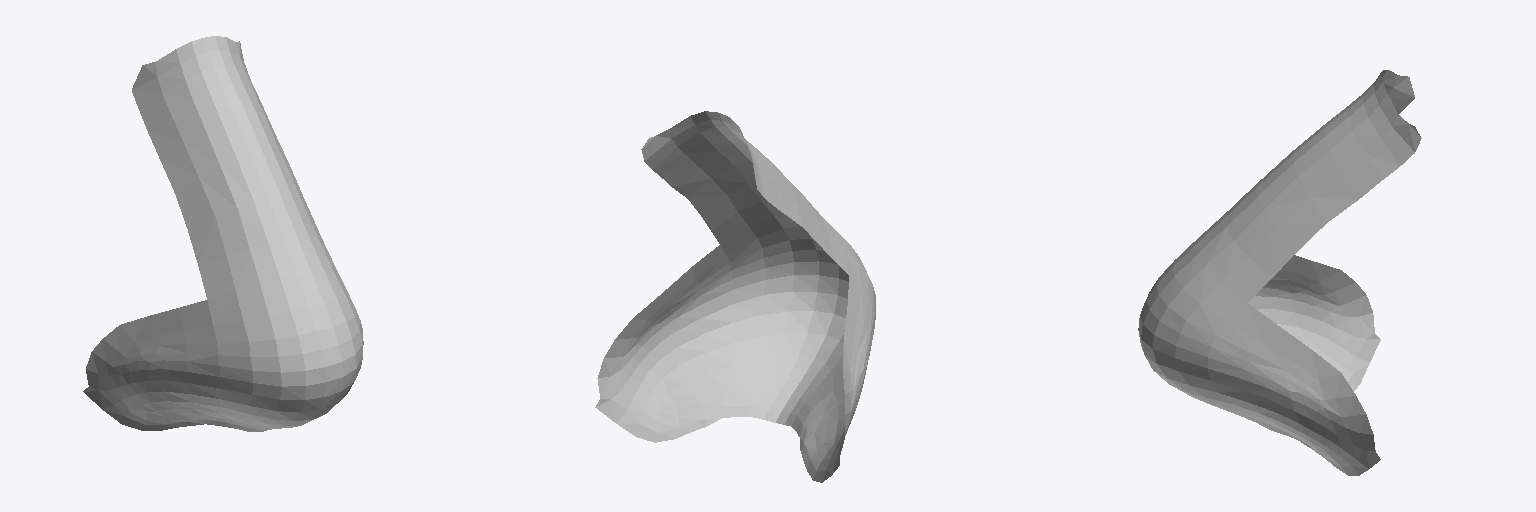
The model's file is euro-fem-nose-bridge-deep.obj.
The picture shows the model from 3 angles: view 1: azimuth 30°, elevation 25°; view 2: azimuth 150°, elevation 25°; view 3: azimuth 270°, elevation 25°; orthographic projection.
Parts seen in each view (by area): view 1: euro-fem-nose-bri.001; view 2: euro-fem-nose-bri.001; view 3: euro-fem-nose-bri.001.
Part boxes in pixels (x1,y1,x2,y2): euro-fem-nose-bri.001: (83,36,363,431); euro-fem-nose-bri.001: (595,111,875,482); euro-fem-nose-bri.001: (1138,70,1421,475).
Size of the model in its own units: 0.2988 by 0.4179 by 0.2963.